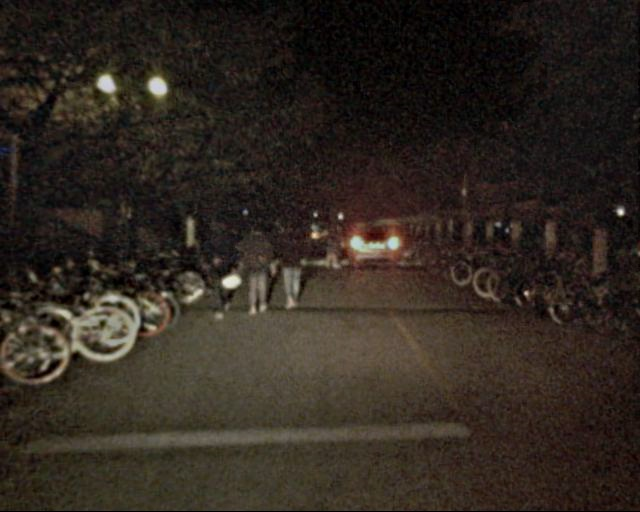person: (205, 213, 240, 318), (279, 214, 308, 311), (244, 222, 273, 317), (321, 223, 342, 273)
